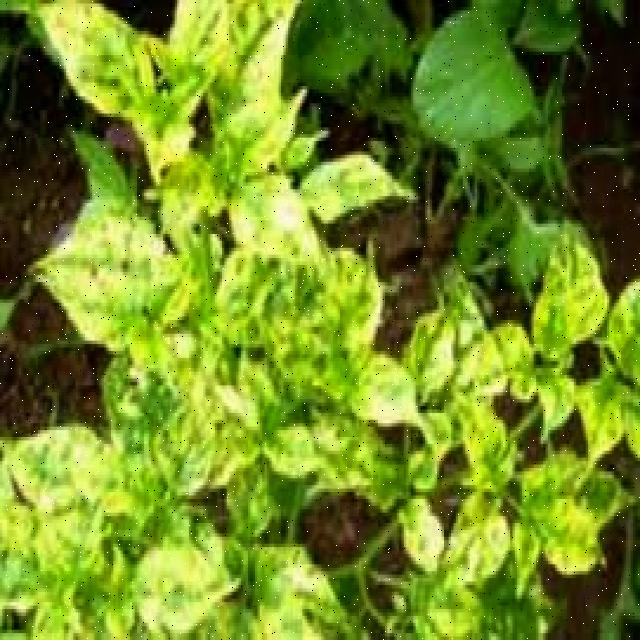leaf curl: (28, 111, 424, 620)
